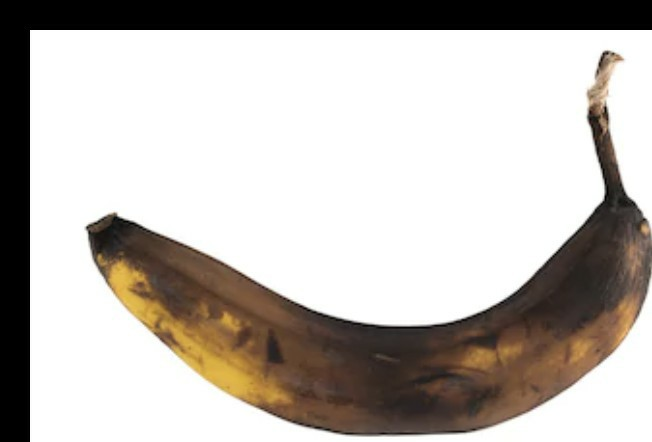rotten_banana: (91, 99, 652, 430)
